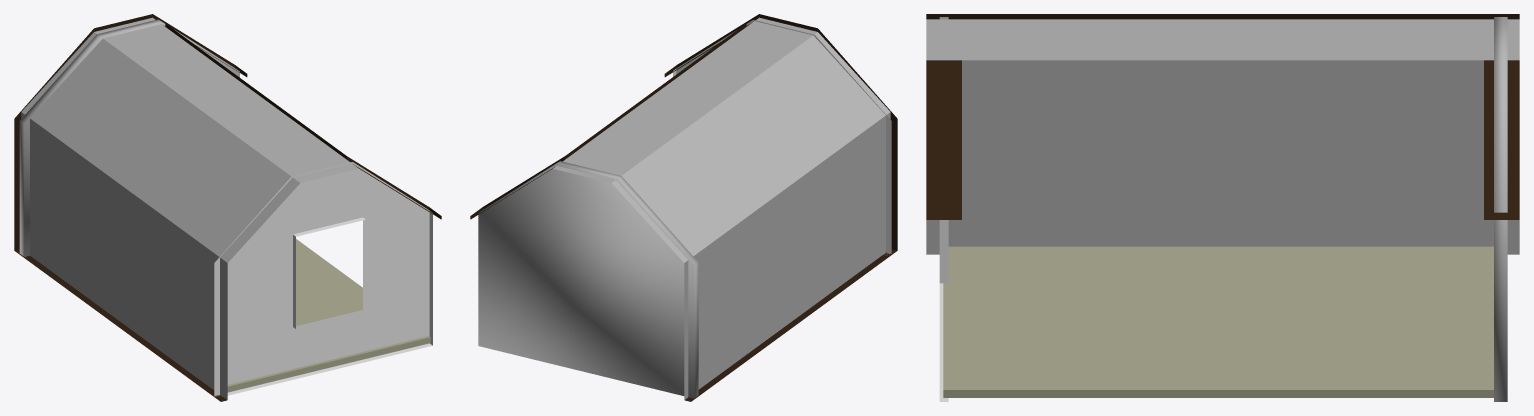
File: hOUSE.glb
3 views of the same model, side by side, from view 1: azimuth 30°, elevation 25°; view 2: azimuth 150°, elevation 25°; view 3: azimuth 270°, elevation 25° (orthographic). The views are drawn at different scales.
Visible parts, largest first — view 1: House; view 2: House; view 3: House.
Part boxes in pixels (bbox=[...]): House: bbox=[14, 14, 441, 401]; House: bbox=[470, 14, 897, 401]; House: bbox=[926, 14, 1519, 401].
Bounding box in the file's own units: 4 × 3.52 × 6.49.
